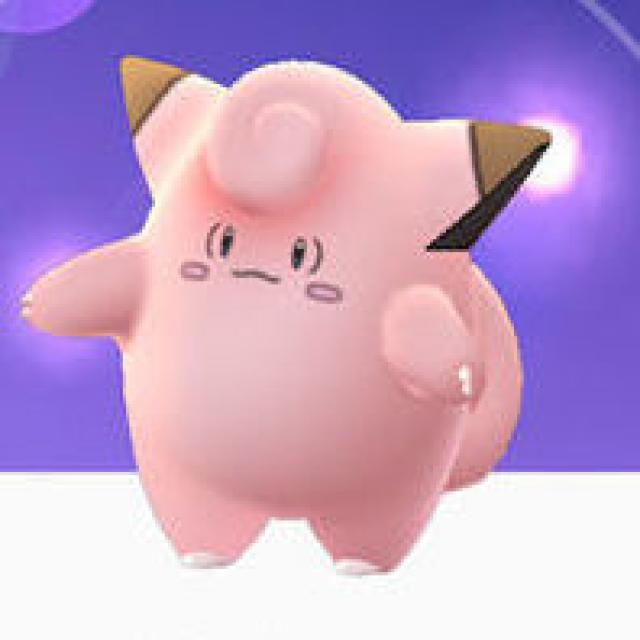Clefairy: (80, 45, 540, 579)
